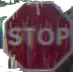Stop: (2, 1, 72, 71)
